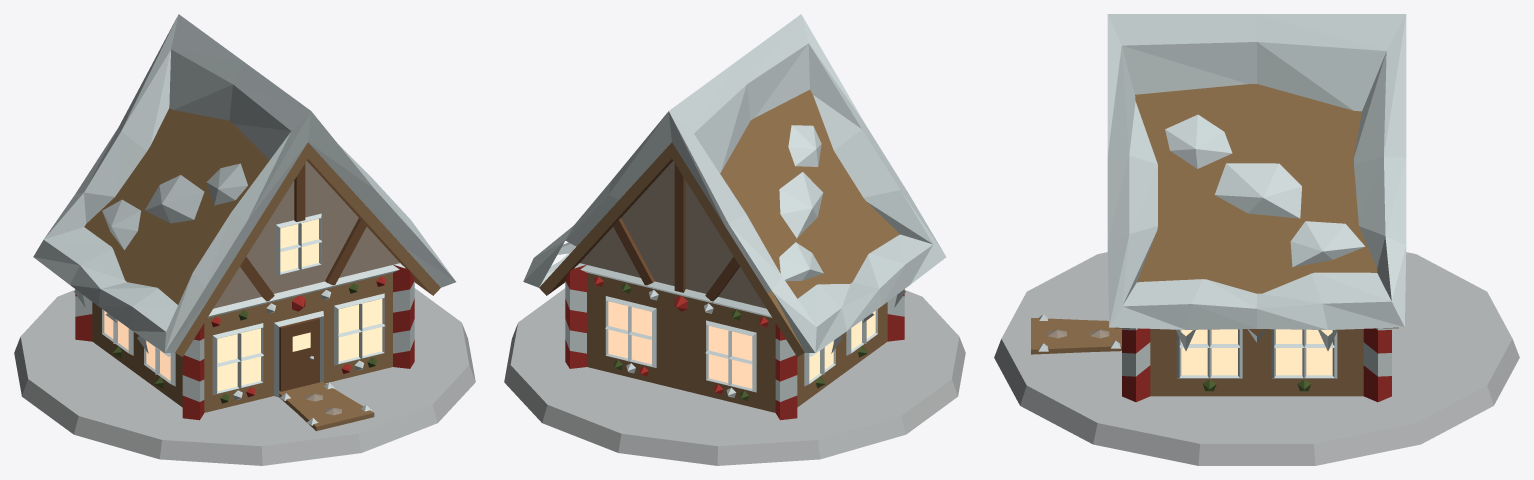
File: gingerbread-house-8b9049.glb
The picture shows the model from 3 angles, left to right: view 1: azimuth 30°, elevation 25°; view 2: azimuth 150°, elevation 25°; view 3: azimuth 270°, elevation 25°; orthographic projection. The views are drawn at different scales.
Visible parts, largest first — view 1: gingerbread-house-body, sugar-glass-lit; view 2: gingerbread-house-body, sugar-glass-lit; view 3: gingerbread-house-body, sugar-glass-lit.
Boxes of the visible parts, x1,y1,x2,y2 form: gingerbread-house-body: (14, 14, 475, 465); sugar-glass-lit: (104, 219, 382, 391); gingerbread-house-body: (504, 14, 965, 465); sugar-glass-lit: (608, 301, 875, 388); gingerbread-house-body: (994, 14, 1519, 465); sugar-glass-lit: (1181, 329, 1332, 375).
Size of the model in its own units: 0.4875 by 0.3605 by 0.5.
